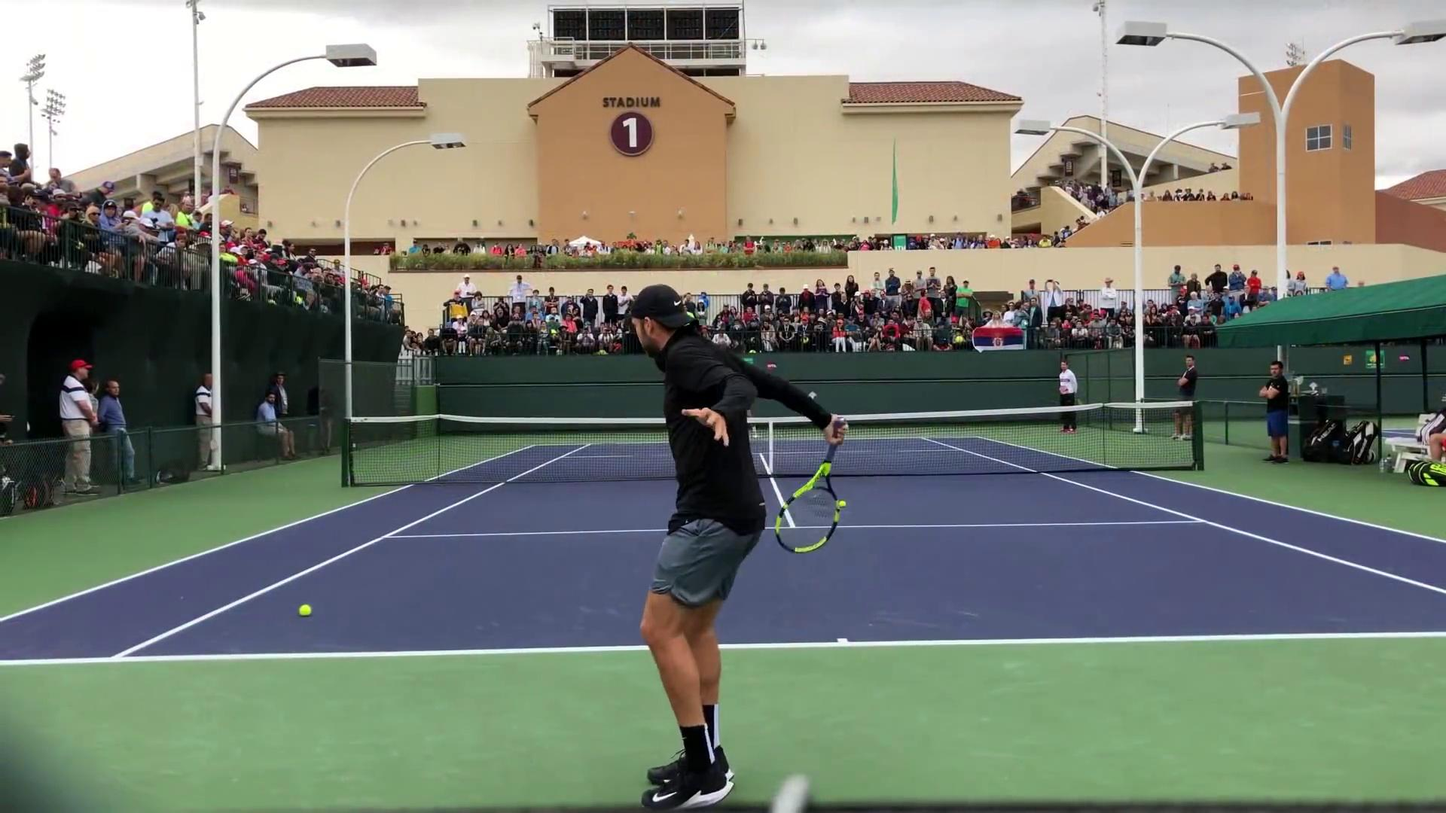ball: (297, 603, 312, 616), (839, 499, 846, 508)
